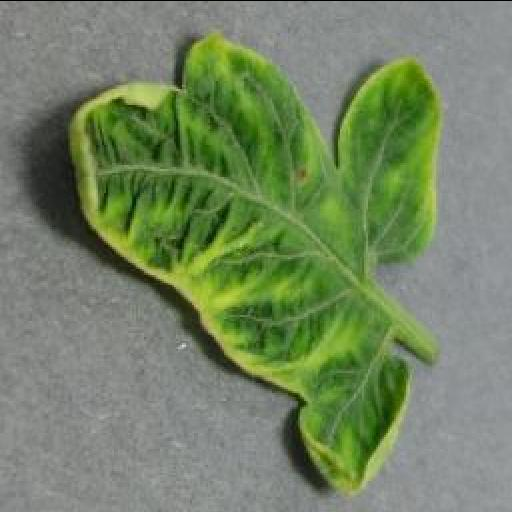disease_tomato: (58, 30, 444, 496)
